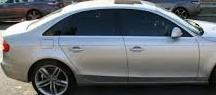Cars: (2, 4, 216, 95)
